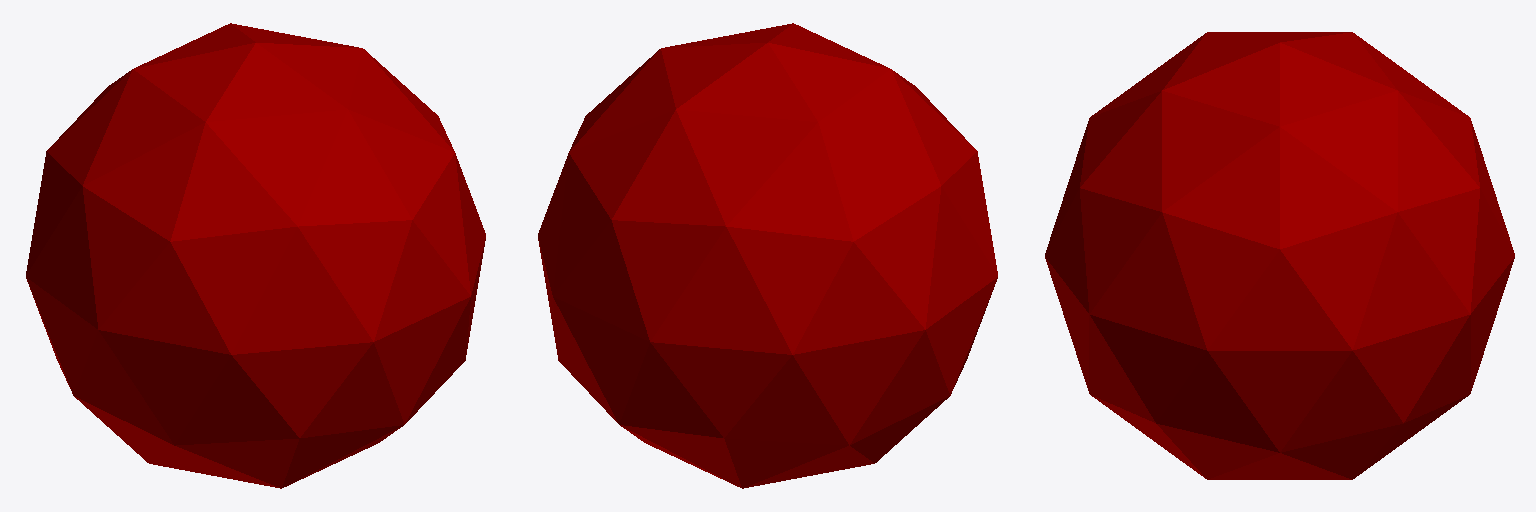
The model's file is enemy.obj.
3 views of the same model, side by side, from view 1: azimuth 30°, elevation 25°; view 2: azimuth 150°, elevation 25°; view 3: azimuth 270°, elevation 25° (orthographic).
Visible parts, largest first — view 1: Icosphere; view 2: Icosphere; view 3: Icosphere.
Boxes of the visible parts, <box> form: Icosphere: <box>26,23,485,488</box>; Icosphere: <box>538,23,997,488</box>; Icosphere: <box>1045,32,1514,479</box>.
Size of the model in its own units: 1.9 by 2 by 2.